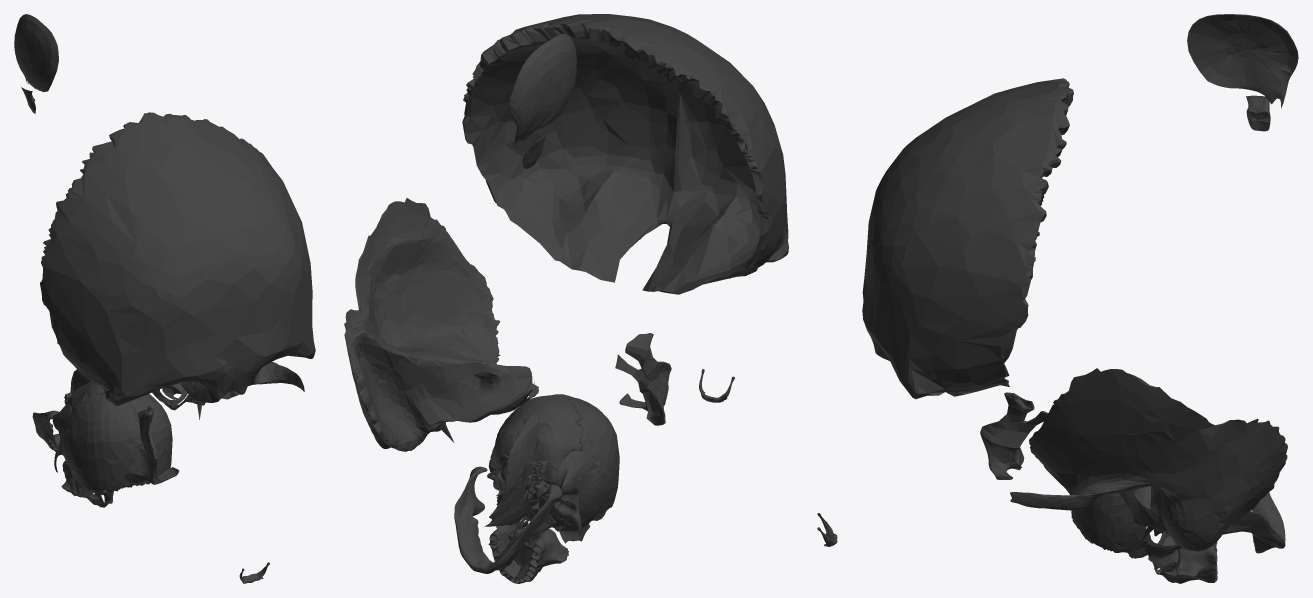
The model's file is sharedassets22.glb.
3 renders of one model, left to right at view 1: azimuth 30°, elevation 25°; view 2: azimuth 150°, elevation 25°; view 3: azimuth 270°, elevation 25°, orthographic. The views are drawn at different scales.
Visible parts, largest first — view 1: 0041_Frontal__001097, 0029_Parietal, R__001095, 0126_Temporalis, L__1000416, 0103_Palatine, R__001081, 0030_Parietal, L__001094, 0042_Temporal, L__001110, 0057_Temporal, R__001120, 0125_Mandible_body_001091, 0094_Maxilla, R_body_001078_004, 0031_Occipital__001132; view 2: 0041_Frontal__001097, 0042_Temporal, L__001110, 0126_Temporalis, L__1000416, 0031_Occipital__001132, 0125_Mandible_body_001091, 0057_Temporal, R__001120, 0029_Parietal, R__001095, 0103_Palatine, R__001081, 0127_Temporalis, R__1000417, 0094_Maxilla, R_body_001078_004, 0079_Sphenoid__001143, 0085_Maxilla, L_ body_001063_004; view 3: 0041_Frontal__001097, 0042_Temporal, L__001110, 0126_Temporalis, L__1000416, 0030_Parietal, L__001094, 0103_Palatine, R__001081, 0125_Mandible_body_001091, 0085_Maxilla, L_ body_001063_004, 0079_Sphenoid__001143, 0129_Masseter, deep, L__1000263.
Boxes of the visible parts, x1=… form: 0041_Frontal__001097: x1=40, y1=112, x2=315, y2=405; 0029_Parietal, R__001095: x1=66, y1=393, x2=147, y2=492; 0126_Temporalis, L__1000416: x1=14, y1=14, x2=58, y2=92; 0103_Palatine, R__001081: x1=123, y1=406, x2=179, y2=484; 0030_Parietal, L__001094: x1=129, y1=394, x2=172, y2=484; 0042_Temporal, L__001110: x1=162, y1=362, x2=304, y2=419; 0057_Temporal, R__001120: x1=52, y1=404, x2=73, y2=472; 0125_Mandible_body_001091: x1=32, y1=410, x2=59, y2=451; 0094_Maxilla, R_body_001078_004: x1=61, y1=460, x2=105, y2=505; 0031_Occipital__001132: x1=65, y1=381, x2=105, y2=410; 0041_Frontal__001097: x1=462, y1=14, x2=788, y2=294; 0042_Temporal, L__001110: x1=344, y1=198, x2=538, y2=451; 0126_Temporalis, L__1000416: x1=508, y1=34, x2=576, y2=148; 0031_Occipital__001132: x1=488, y1=394, x2=583, y2=500; 0125_Mandible_body_001091: x1=454, y1=466, x2=562, y2=573; 0057_Temporal, R__001120: x1=538, y1=450, x2=608, y2=537; 0029_Parietal, R__001095: x1=566, y1=395, x2=619, y2=520; 0103_Palatine, R__001081: x1=615, y1=333, x2=671, y2=425; 0127_Temporalis, R__1000417: x1=484, y1=413, x2=539, y2=526; 0094_Maxilla, R_body_001078_004: x1=514, y1=529, x2=568, y2=583; 0079_Sphenoid__001143: x1=495, y1=491, x2=599, y2=543; 0085_Maxilla, L_ body_001063_004: x1=488, y1=527, x2=524, y2=583; 0041_Frontal__001097: x1=862, y1=78, x2=1073, y2=399; 0042_Temporal, L__001110: x1=1010, y1=368, x2=1287, y2=551; 0126_Temporalis, L__1000416: x1=1187, y1=14, x2=1298, y2=108; 0030_Parietal, L__001094: x1=1072, y1=493, x2=1150, y2=558; 0103_Palatine, R__001081: x1=980, y1=392, x2=1048, y2=479; 0125_Mandible_body_001091: x1=1223, y1=492, x2=1285, y2=553; 0085_Maxilla, L_ body_001063_004: x1=1159, y1=546, x2=1217, y2=583; 0079_Sphenoid__001143: x1=1144, y1=528, x2=1182, y2=569; 0129_Masseter, deep, L__1000263: x1=1246, y1=95, x2=1270, y2=131.
Bounding box in the file's own units: 0.1902 × 0.3136 × 0.2498.
1 material, 1 textured.
